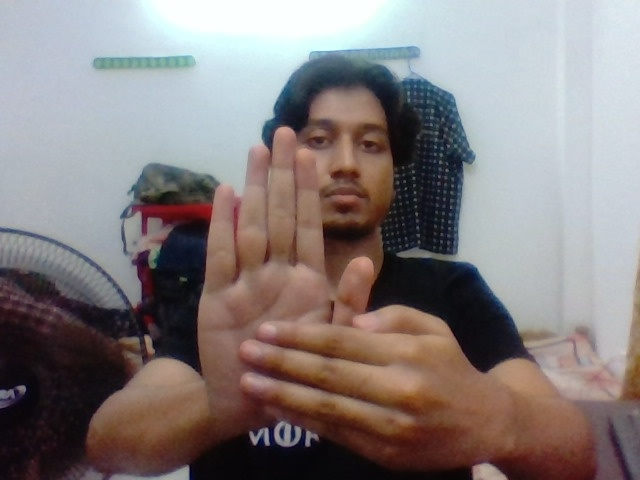H: (163, 121, 488, 470)
